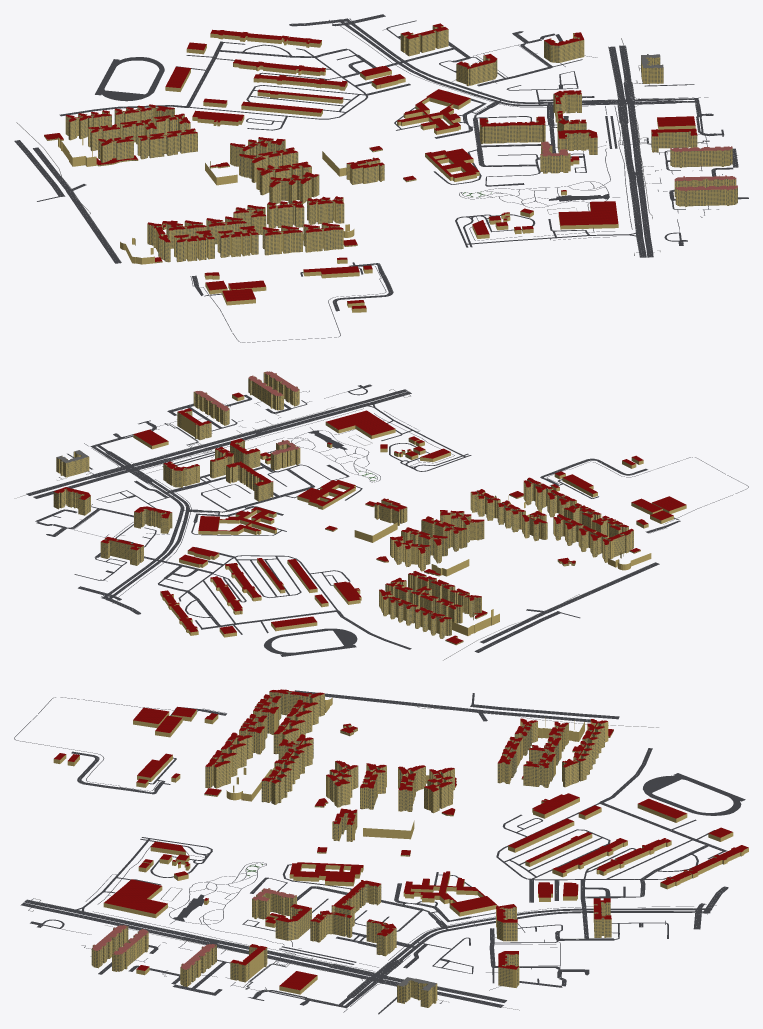
The model's file is osm3d.glb.
3 renders of one model, top to bottom at view 1: azimuth 30°, elevation 25°; view 2: azimuth 150°, elevation 25°; view 3: azimuth 270°, elevation 25°, orthographic. The views are drawn at different scales.
Visible parts, largest first — view 1: Plaster002, ASPHALT, RoofingTiles010, Windows, RoofingTiles010.001; view 2: Plaster002, ASPHALT, RoofingTiles010, Windows, RoofingTiles010.001, Concrete034; view 3: Plaster002, ASPHALT, RoofingTiles010, Windows, RoofingTiles010.001, Concrete034.
Boxes of the visible parts, <box> form: Plaster002: <box>44,25,737,312</box>; ASPHALT: <box>14,14,748,342</box>; RoofingTiles010: <box>44,23,697,308</box>; Windows: <box>44,26,737,262</box>; RoofingTiles010.001: <box>540,141,737,191</box>; Plaster002: <box>53,372,686,645</box>; ASPHALT: <box>26,384,748,656</box>; RoofingTiles010: <box>54,392,686,643</box>; Windows: <box>54,374,639,644</box>; RoofingTiles010.001: <box>194,371,299,454</box>; Concrete034: <box>14,389,579,660</box>; Plaster002: <box>53,691,748,1007</box>; ASPHALT: <box>14,690,745,1014</box>; RoofingTiles010: <box>54,689,748,990</box>; Windows: <box>92,692,613,1007</box>; RoofingTiles010.001: <box>92,888,296,969</box>; Concrete034: <box>28,706,658,1010</box>.
Size of the model in its own units: 1225 by 37.51 by 1173.
16 materials, 16 textured.
